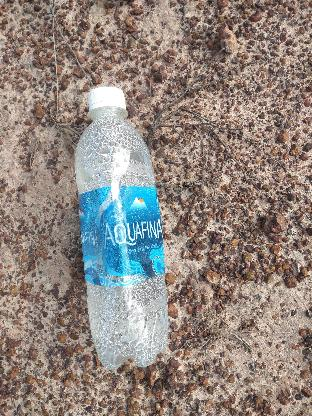Plastic Bottle: (75, 86, 168, 371)
